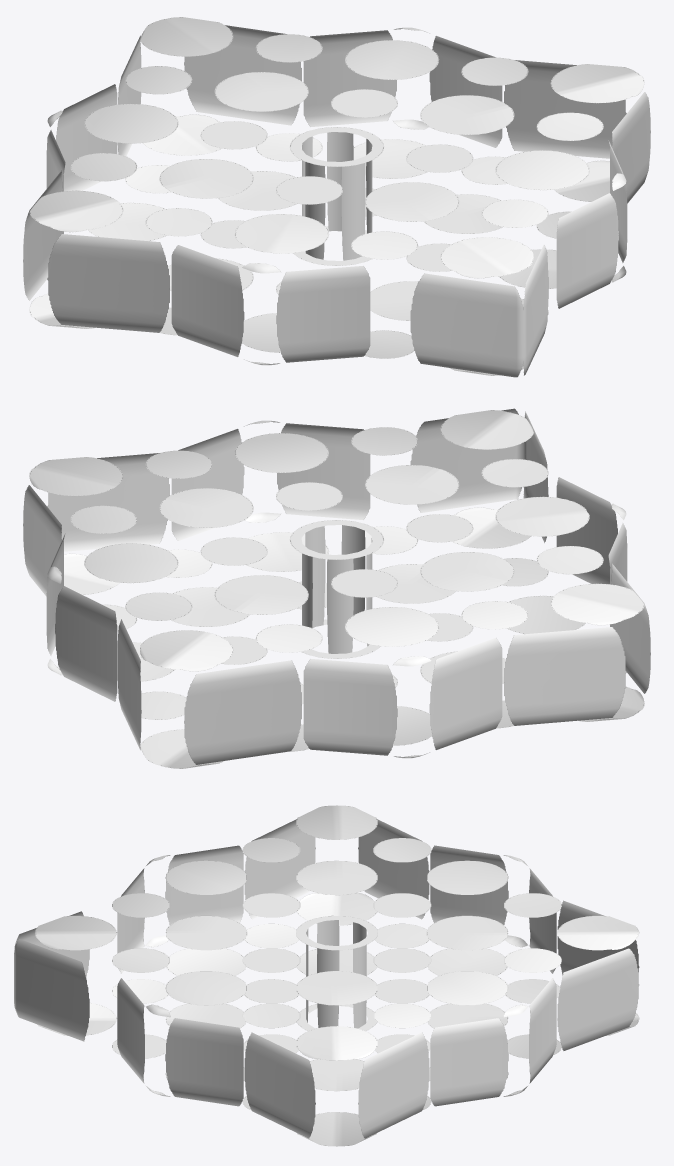
3 renders of one model, top to bottom at view 1: azimuth 30°, elevation 25°; view 2: azimuth 150°, elevation 25°; view 3: azimuth 270°, elevation 25°, orthographic. The views are drawn at different scales.
Visible parts, largest first — view 1: Chakra.009; view 2: Chakra.009; view 3: Chakra.009.
Part boxes in pixels (x1,y1,x2,y2): Chakra.009: [23, 17, 650, 377]; Chakra.009: [23, 408, 650, 768]; Chakra.009: [14, 805, 639, 1146].
Bounding box in the file's own units: 488 × 71.66 × 488.
